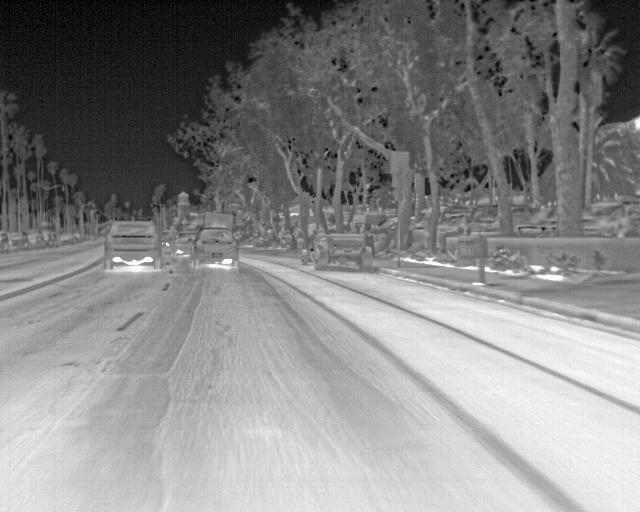bicycle: (102, 220, 162, 271), (192, 229, 239, 266), (6, 229, 29, 250), (57, 230, 78, 246)
empty: (313, 225, 330, 239)
